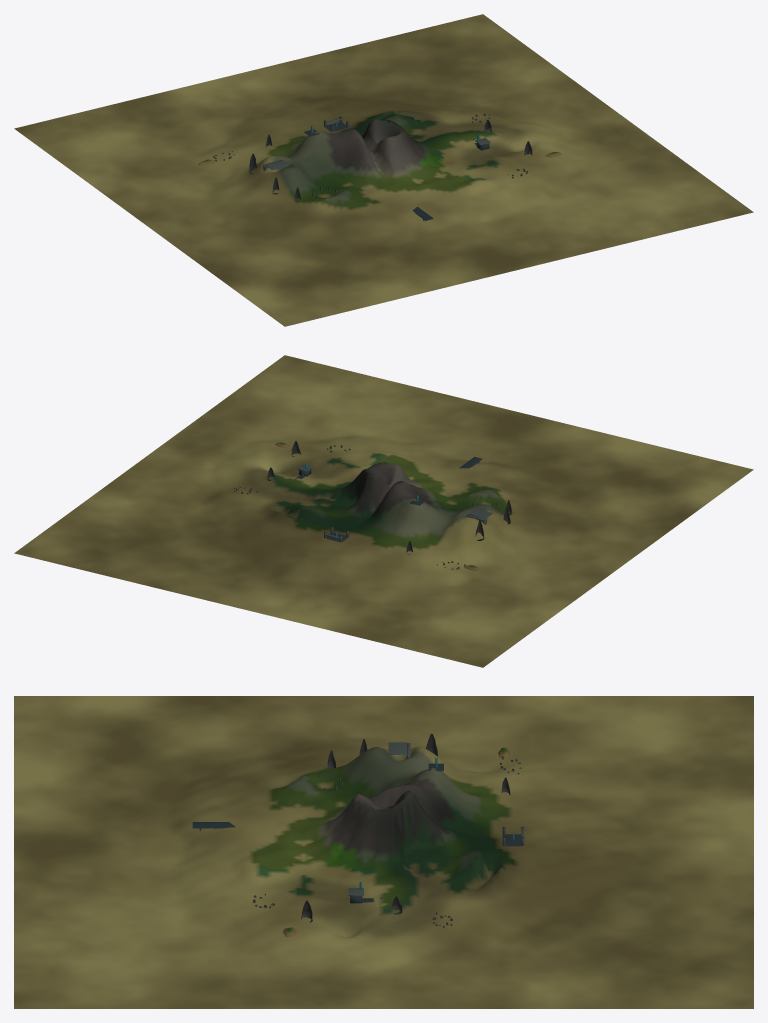
Rendered from demo_map_lod1.obj.
3 views of the same model, one above another, from view 1: azimuth 30°, elevation 25°; view 2: azimuth 150°, elevation 25°; view 3: azimuth 270°, elevation 25° (orthographic). The views are drawn at different scales.
Parts seen in each view (by area): view 1: mysterious_island_lod1; view 2: mysterious_island_lod1; view 3: mysterious_island_lod1.
Part boxes in pixels (box(x1,y1,x2,y2)): mysterious_island_lod1: box(14, 14, 753, 326); mysterious_island_lod1: box(14, 355, 753, 667); mysterious_island_lod1: box(14, 696, 753, 1008).
Size of the model in its own units: 480 by 43.36 by 480.
